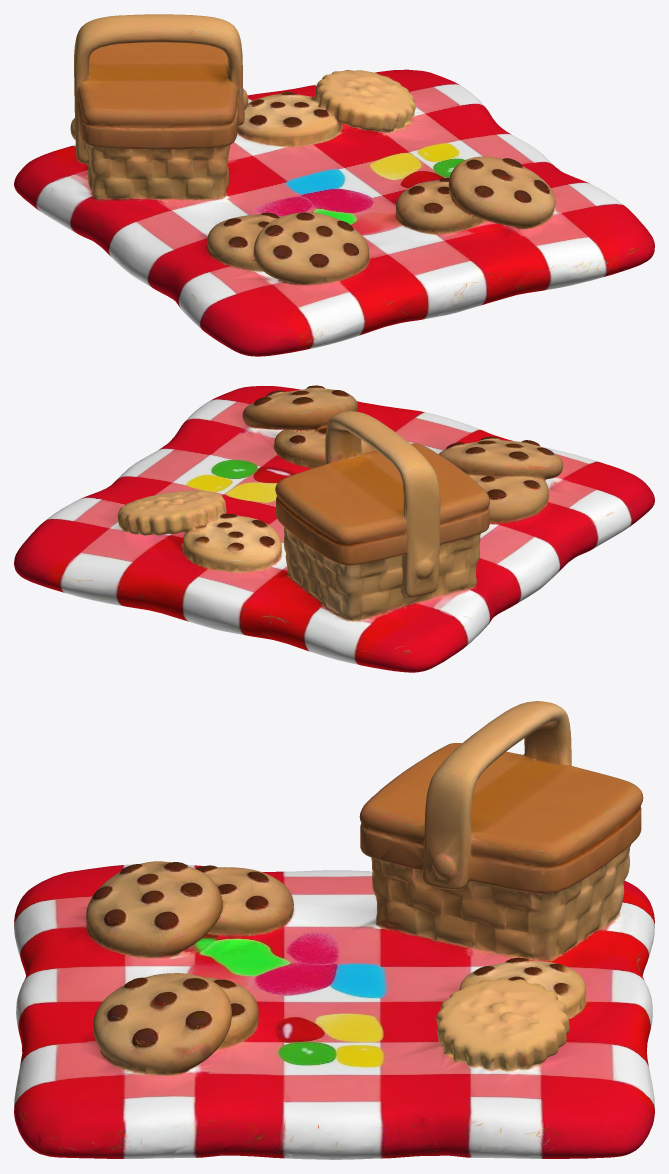
File: farm.glb
3 views of the same model, one above another, from view 1: azimuth 30°, elevation 25°; view 2: azimuth 150°, elevation 25°; view 3: azimuth 270°, elevation 25° (orthographic). The views are drawn at different scales.
Parts seen in each view (by area): view 1: Mesh_0; view 2: Mesh_0; view 3: Mesh_0.
Boxes of the visible parts, box(x1,y1,x2,y2) form: Mesh_0: box(14, 14, 654, 356); Mesh_0: box(14, 385, 654, 672); Mesh_0: box(14, 701, 654, 1159).
Bounding box in the file's own units: 1.9 × 0.8045 × 1.91.
Materials: 1 (1 with a texture image).
